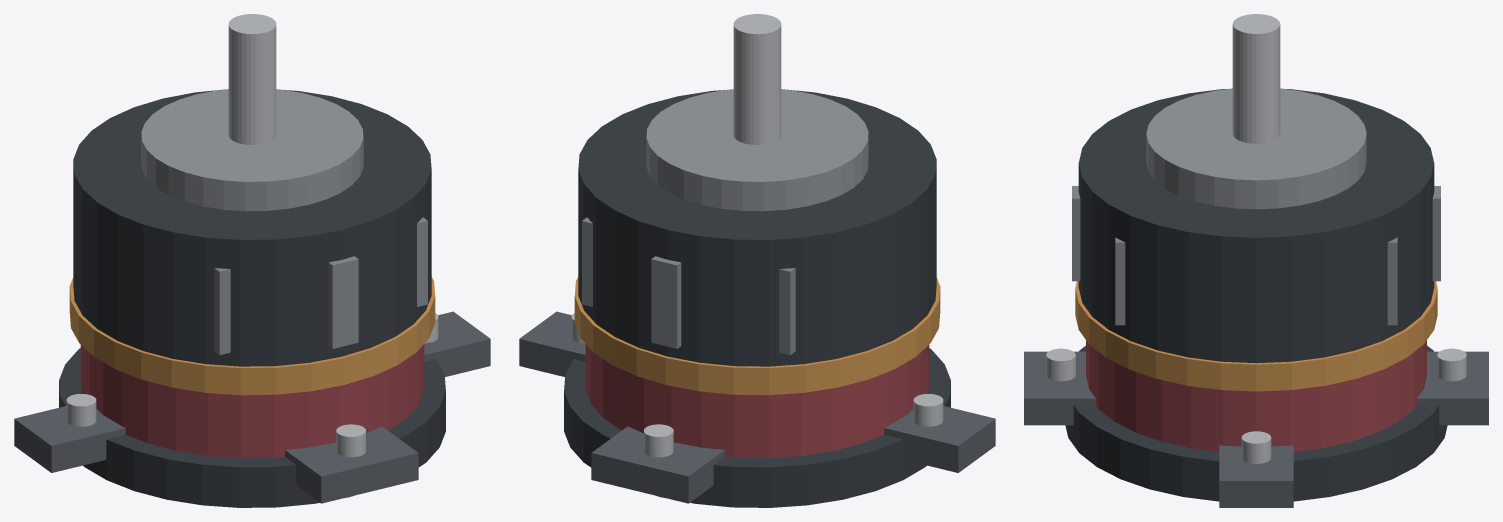
Rendered from motor_4008_500kv.glb.
3 renders of one model, left to right at view 1: azimuth 30°, elevation 25°; view 2: azimuth 150°, elevation 25°; view 3: azimuth 270°, elevation 25°, orthographic.
Visible parts, largest first — view 1: bell, cap, stator, base, accent_ring, shaft, tab_1, tab_2, tab_0, groove_2, groove_3, groove_1 (+2 smaller); view 2: bell, cap, stator, base, accent_ring, shaft, tab_3, tab_2, tab_0, groove_6, groove_5, groove_7 (+2 smaller); view 3: bell, cap, stator, base, accent_ring, shaft, tab_0, tab_1, tab_3, groove_1, groove_7, screw_0 (+4 smaller).
Boxes of the visible parts, x1,y1,x2,y2 form: bell: (73, 89, 431, 366); cap: (141, 89, 363, 211); stator: (80, 344, 424, 458); base: (59, 348, 445, 507); accent_ring: (69, 277, 435, 395); shaft: (228, 14, 276, 144); tab_1: (285, 426, 418, 503); tab_2: (14, 406, 125, 472); tab_0: (424, 311, 490, 376); groove_2: (328, 256, 358, 348); groove_3: (214, 268, 230, 355); groove_1: (417, 217, 427, 306); bell: (578, 89, 936, 366); cap: (646, 89, 868, 211); stator: (585, 344, 929, 458); base: (564, 348, 950, 507); accent_ring: (574, 277, 940, 395); shaft: (733, 14, 781, 144); tab_3: (591, 426, 724, 503); tab_2: (884, 406, 995, 472); tab_0: (519, 311, 585, 376); groove_6: (651, 256, 681, 348); groove_5: (779, 268, 795, 355); groove_7: (582, 217, 592, 306); bell: (1078, 89, 1434, 363); cap: (1146, 88, 1366, 209); stator: (1086, 340, 1426, 451); base: (1065, 345, 1447, 501); accent_ring: (1075, 281, 1437, 391); shaft: (1232, 14, 1280, 143); tab_0: (1219, 445, 1293, 507); tab_1: (1024, 351, 1095, 425); tab_3: (1417, 351, 1488, 425); groove_1: (1115, 237, 1125, 325); groove_7: (1387, 237, 1397, 325); screw_0: (1241, 431, 1271, 463).
Bounding box in the file's own units: 0.0678 × 0.0593 × 0.0628.
